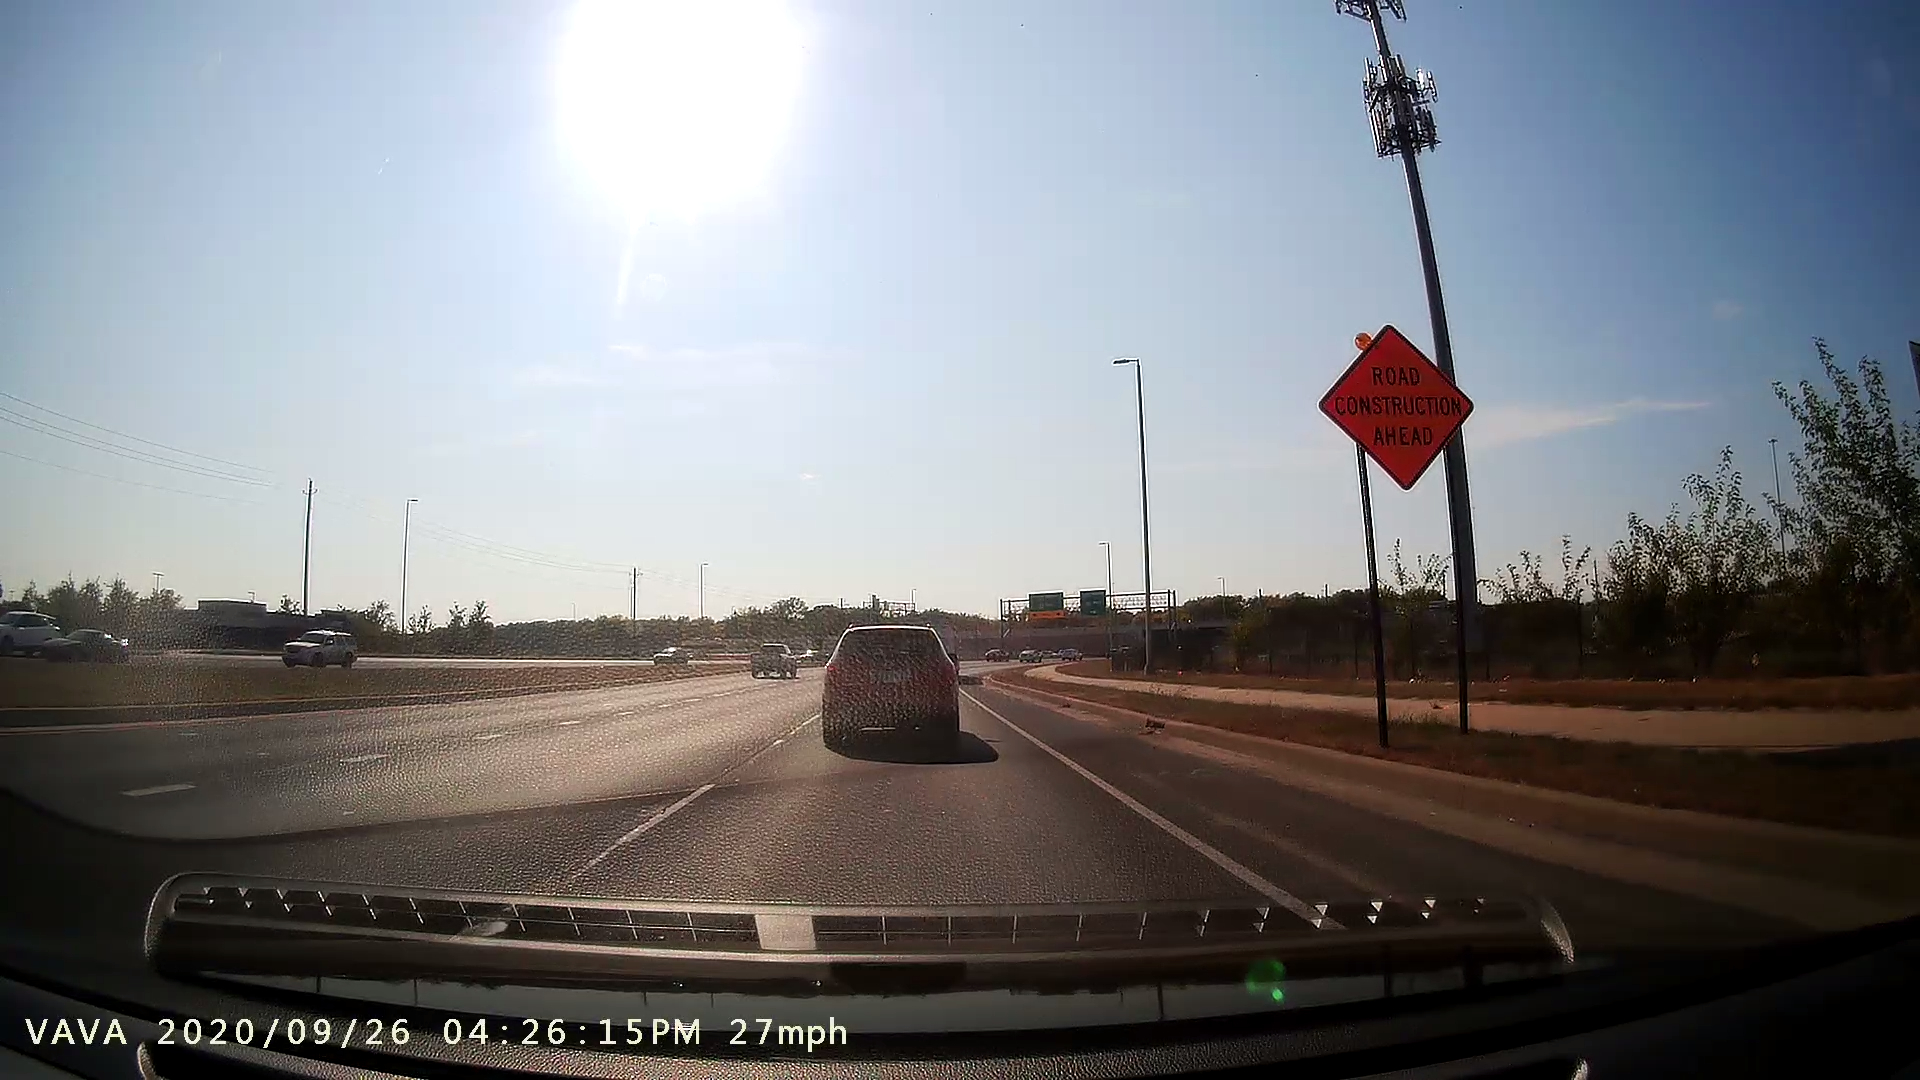ttcs_end_const: (1294, 301, 1498, 746)
